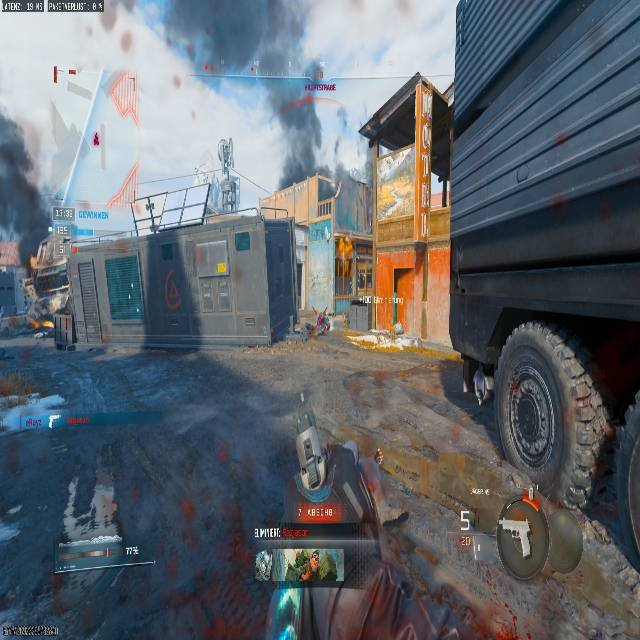player: (24, 236, 76, 352), (315, 308, 331, 336)
